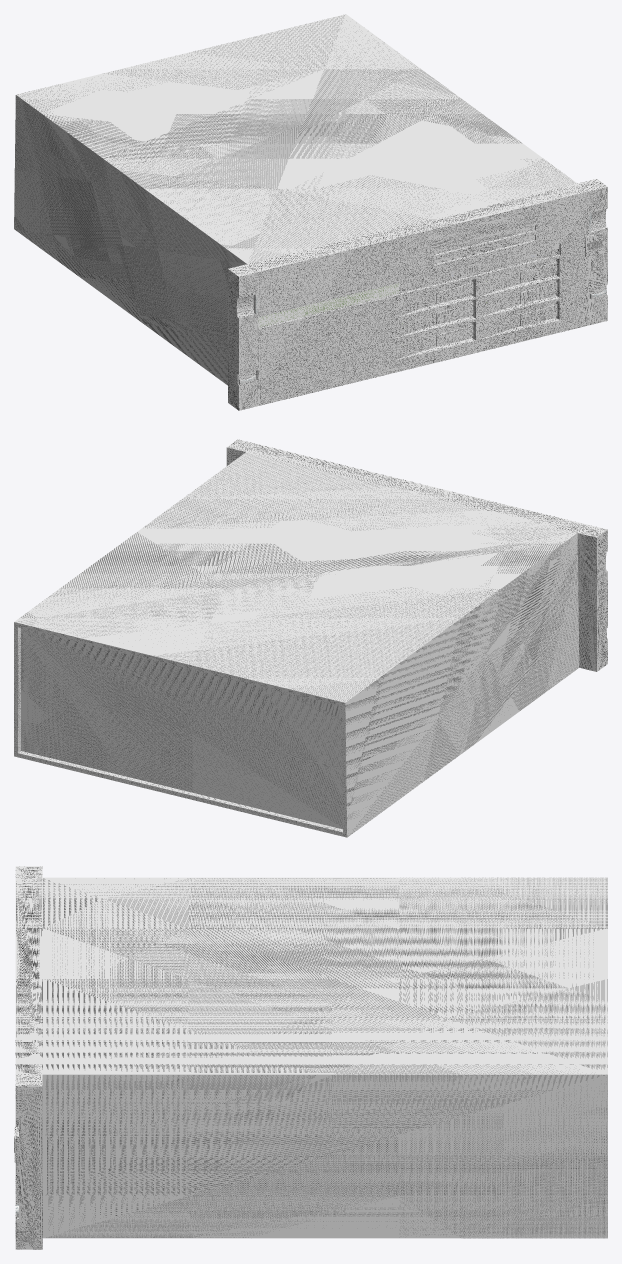
3 renders of one model, top to bottom at view 1: azimuth 30°, elevation 25°; view 2: azimuth 150°, elevation 25°; view 3: azimuth 270°, elevation 25°, orthographic. The views are drawn at different scales.
Visible parts, largest first — view 1: SketchUp (×7), group_4, group_1, group_5, group_2, group_3, group_0; view 2: SketchUp (×3); view 3: SketchUp (×2).
Boxes of the visible parts, bbox=[...] form: SketchUp (×7): bbox=[14, 14, 607, 410]; group_4: bbox=[478, 279, 559, 317]; group_1: bbox=[478, 301, 559, 339]; group_5: bbox=[394, 279, 475, 317]; group_2: bbox=[478, 258, 559, 297]; group_3: bbox=[394, 321, 475, 360]; group_0: bbox=[394, 299, 475, 338]; SketchUp (×3): bbox=[14, 439, 607, 837]; SketchUp (×2): bbox=[15, 866, 607, 1249].
Bounding box in the file's own units: 150 × 172 × 52.19.
Materials: 16 (1 with a texture image).
